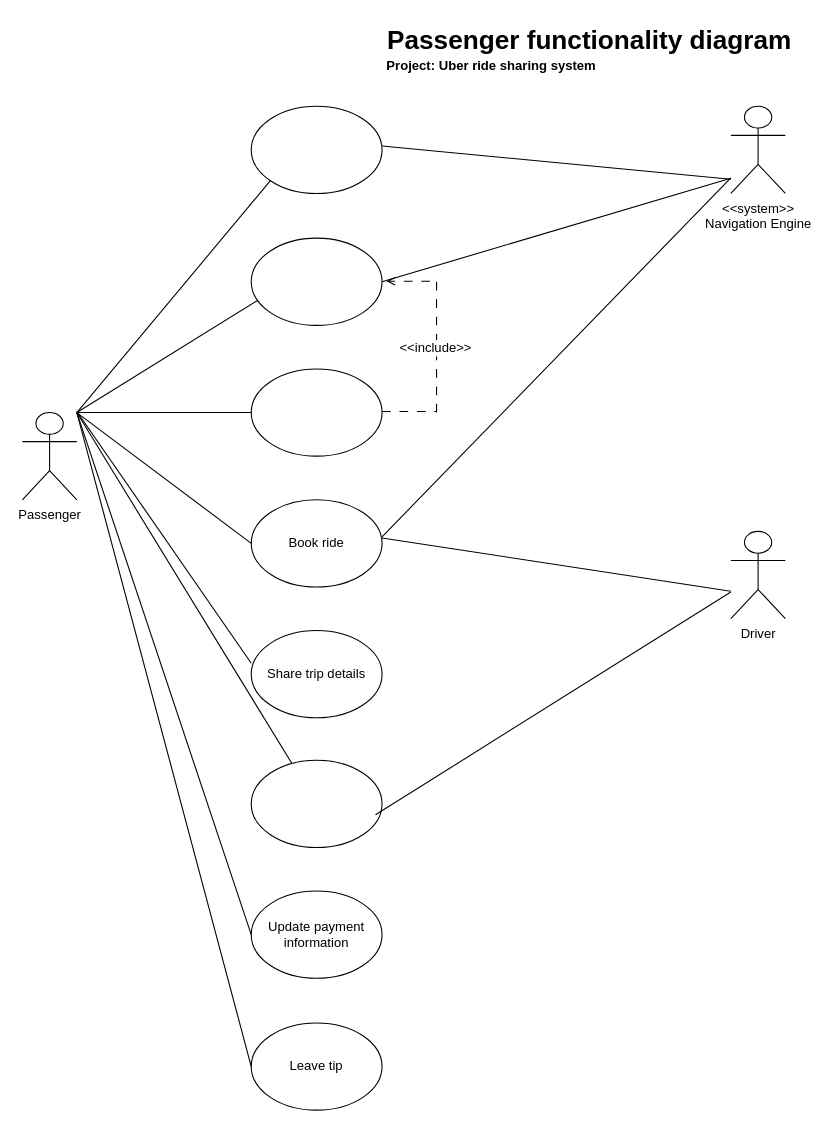
The diagram is 829 pixels wide and 1129 high, and some of its shapes have lost their labels. Each missing label, with the centre of its shape:
"Cancel ride" goes at point 316,412.
"Rate ride" goes at point 316,803.
"Request ride" goes at point 316,281.
"Search for trip details" goes at point 316,149.
